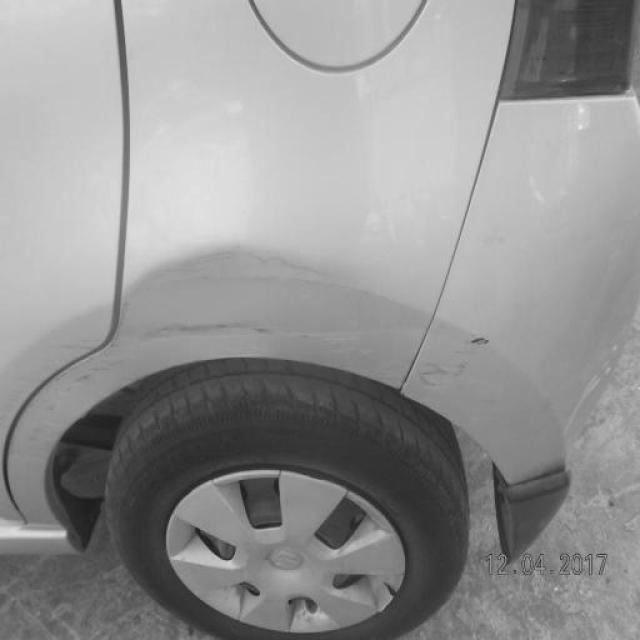scratch: (16, 244, 398, 447), (143, 319, 389, 357), (419, 355, 468, 393), (468, 332, 491, 349)
